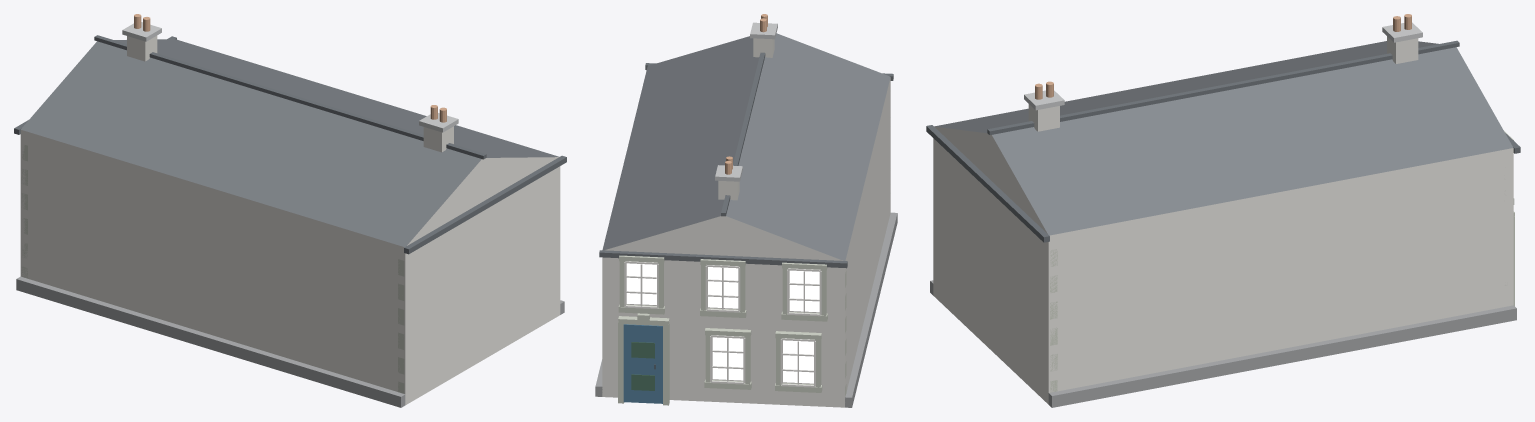
3 views of the same model, side by side, from view 1: azimuth 30°, elevation 25°; view 2: azimuth 150°, elevation 25°; view 3: azimuth 270°, elevation 25° (orthographic). The views are drawn at different scales.
Visible parts, largest first — view 1: harl, slate, plinth, slate_dk, chim_render, dress_sage, stone_band; view 2: slate, harl, dress_sage, frame, slate_dk, door_blue, plinth, window_glass_002, window_glass_001, window_glass_004, window_glass_005, window_glass_003 (+3 smaller); view 3: harl, slate, plinth, slate_dk, chim_render, stone_band, dress_sage.
Part boxes in pixels (<box>): harl: <box>20,130,560,405</box>; slate: <box>21,39,559,247</box>; plinth: <box>16,276,564,407</box>; slate_dk: <box>14,35,566,254</box>; chim_render: <box>127,35,453,152</box>; dress_sage: <box>21,145,404,393</box>; stone_band: <box>122,22,458,132</box>; slate: <box>602,33,890,260</box>; harl: <box>602,78,890,407</box>; dress_sage: <box>618,117,890,405</box>; frame: <box>624,261,821,387</box>; slate_dk: <box>599,52,893,268</box>; door_blue: <box>623,324,662,403</box>; plinth: <box>595,212,897,407</box>; window_glass_002: <box>712,337,743,380</box>; window_glass_001: <box>783,340,813,383</box>; window_glass_004: <box>708,267,738,308</box>; window_glass_005: <box>626,263,656,304</box>; window_glass_003: <box>789,270,819,312</box>; harl: <box>933,126,1513,404</box>; slate: <box>934,41,1513,235</box>; plinth: <box>930,280,1516,407</box>; slate_dk: <box>926,40,1520,242</box>; chim_render: <box>1028,36,1418,131</box>; stone_band: <box>1024,22,1422,110</box>; dress_sage: <box>1050,131,1514,392</box>.
Bounding box in the file's own units: 10.29 × 6.1 × 12.73.
